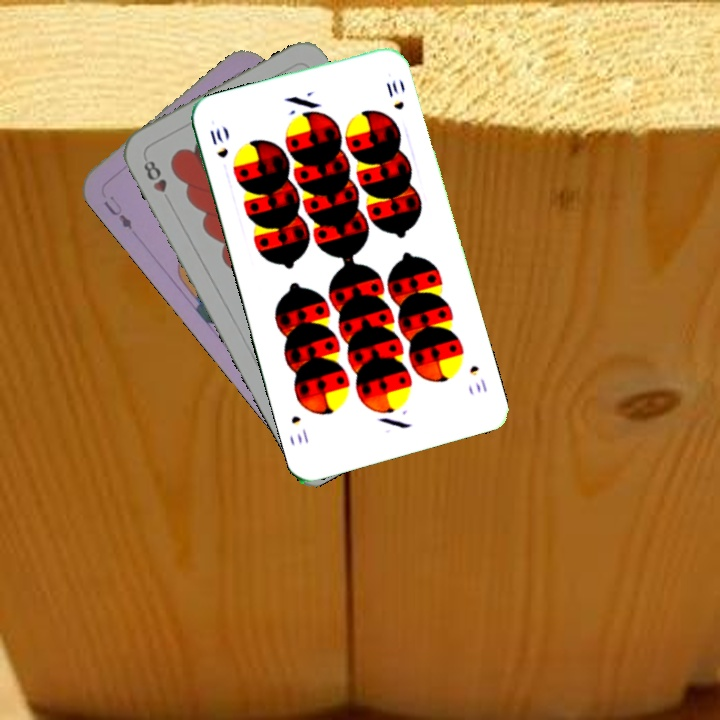EU: (99, 191, 135, 233)
H8: (139, 156, 170, 196)
S10: (206, 124, 231, 161), (465, 361, 490, 396)
